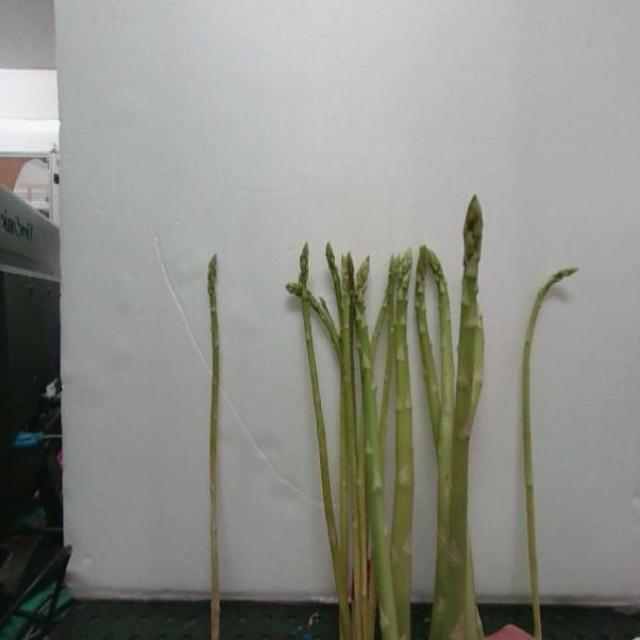aspargus: (179, 254, 257, 640)
